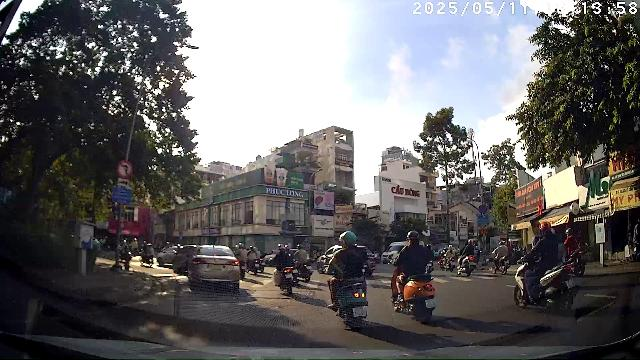123a-cam-re-trai: (116, 160, 133, 178)
